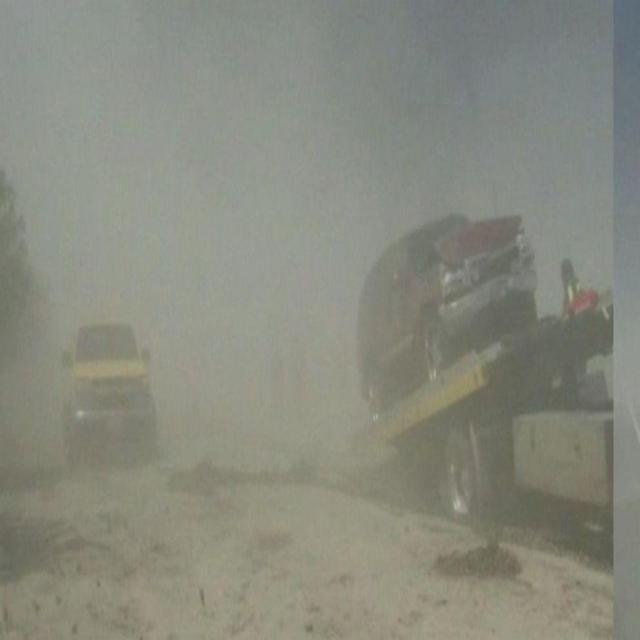Car: (351, 203, 540, 437), (57, 321, 161, 464)
